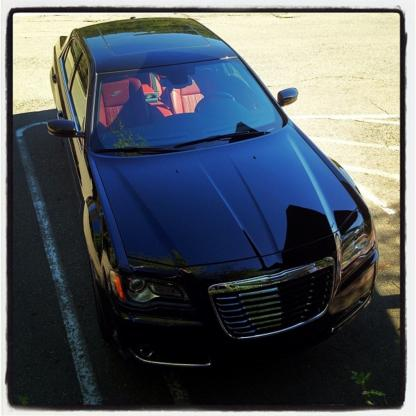Car: (43, 16, 380, 384)
